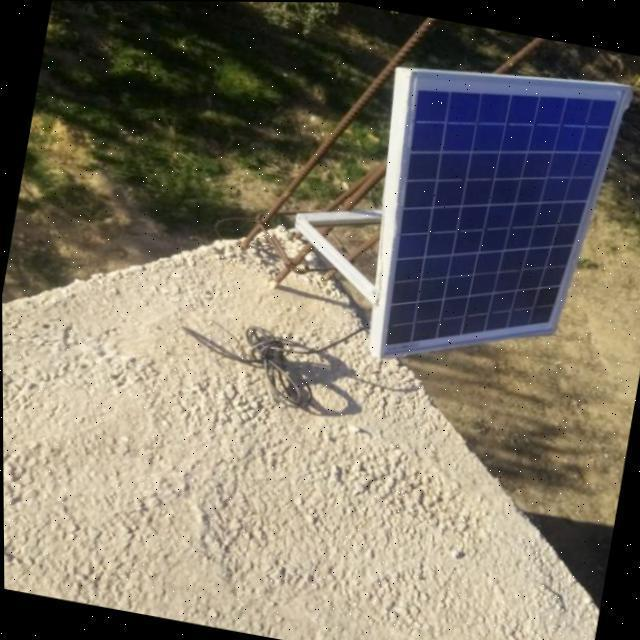Normal Solar Panel: (360, 45, 631, 393)
